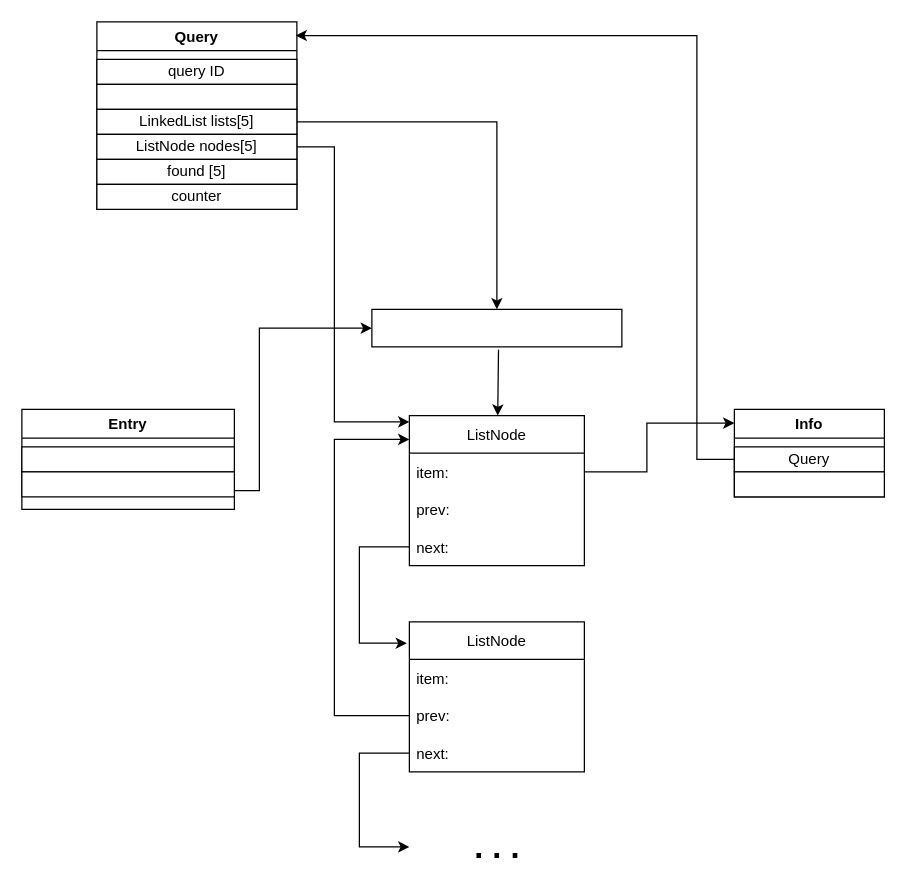
Some shapes in this 906 by 888 pixel diagram are drawn without their labels. The shapes that lost their labels are listed below. From the top down, each one's box as (x1, y1, x2, y2) in pixels, then its label:
(96, 83, 297, 109): size
(371, 308, 622, 347): LinkedList payload[k]
(21, 446, 234, 472): word = "example"
(21, 471, 234, 497): LinkedList payload[3]
(733, 471, 884, 497): Index
